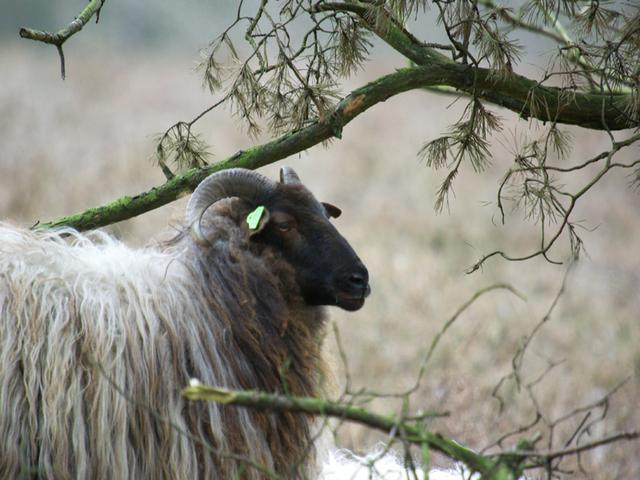sheep: (1, 167, 404, 477)
